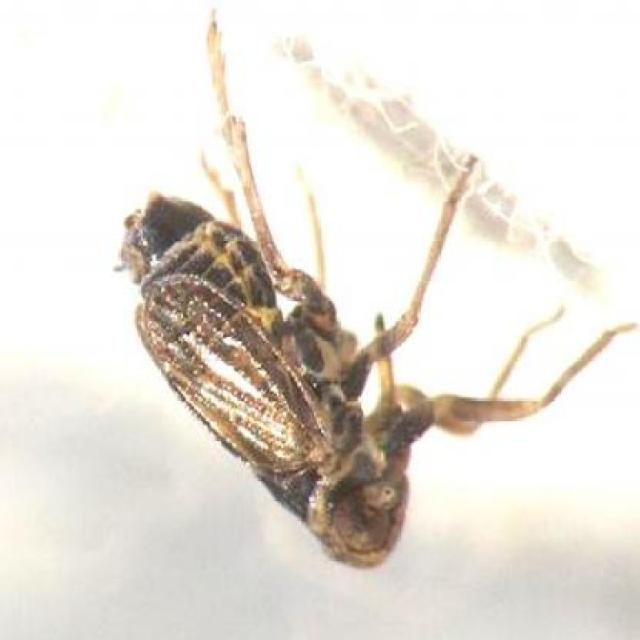brown-planthopper: (125, 176, 433, 579)
